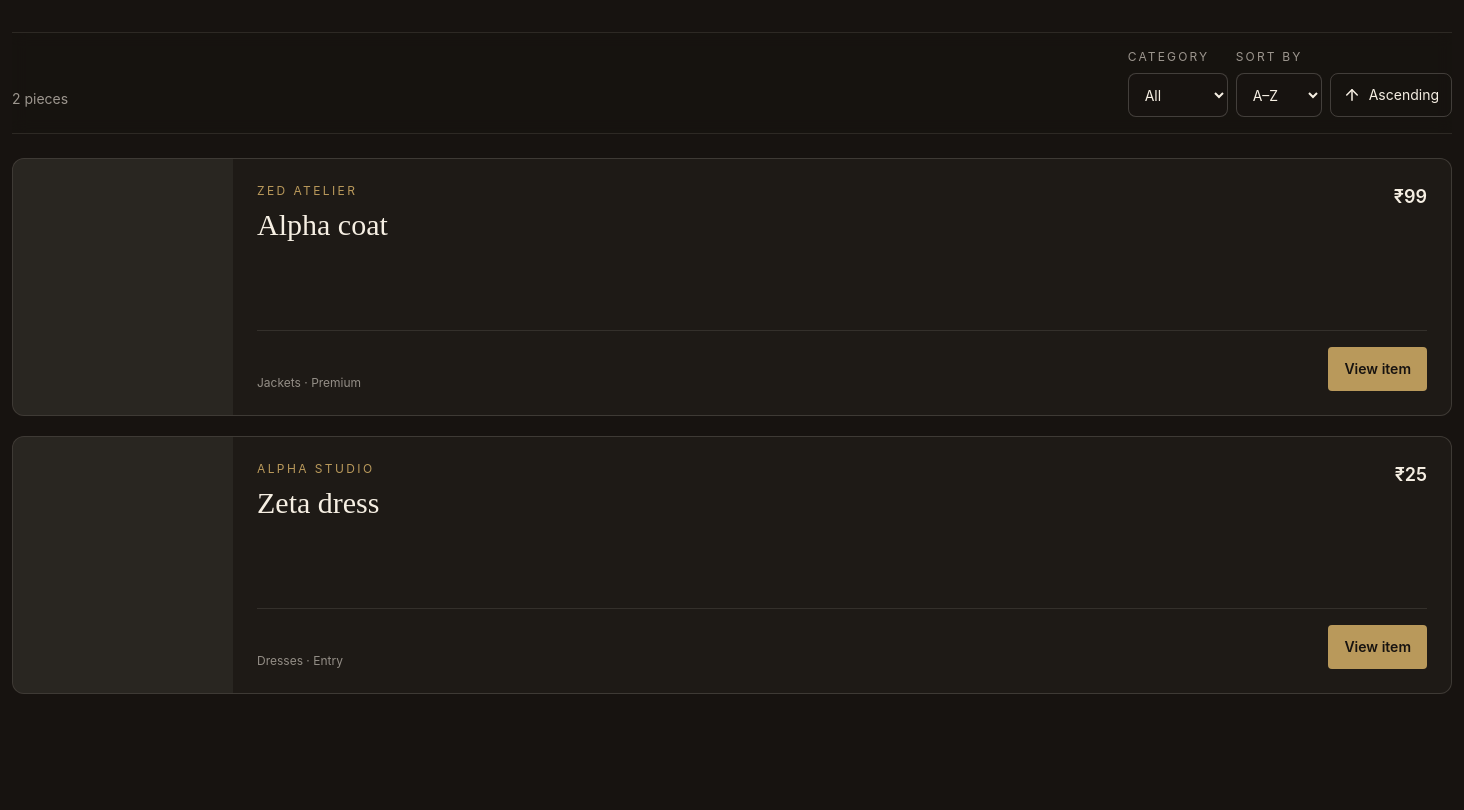
it: signed-in product catalogue › sorts alphabetically by default and supports price direction toggling
Select "Price" in the dropdown named "Sort products by" at (1279, 95), box x1=1236 y1=73 x2=1322 y2=117
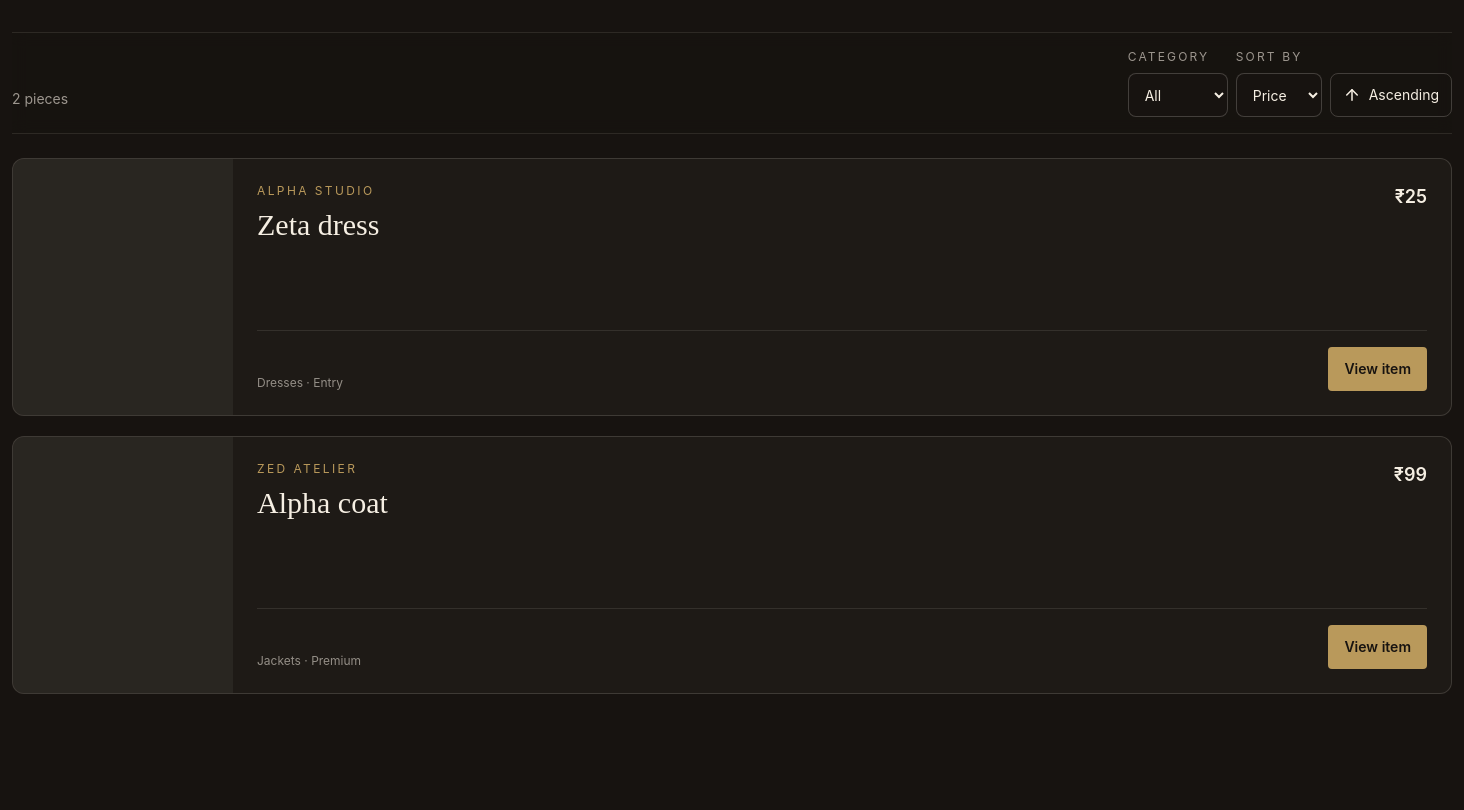
Click the button "Ascending" at (1391, 95), box x1=1330 y1=73 x2=1452 y2=117
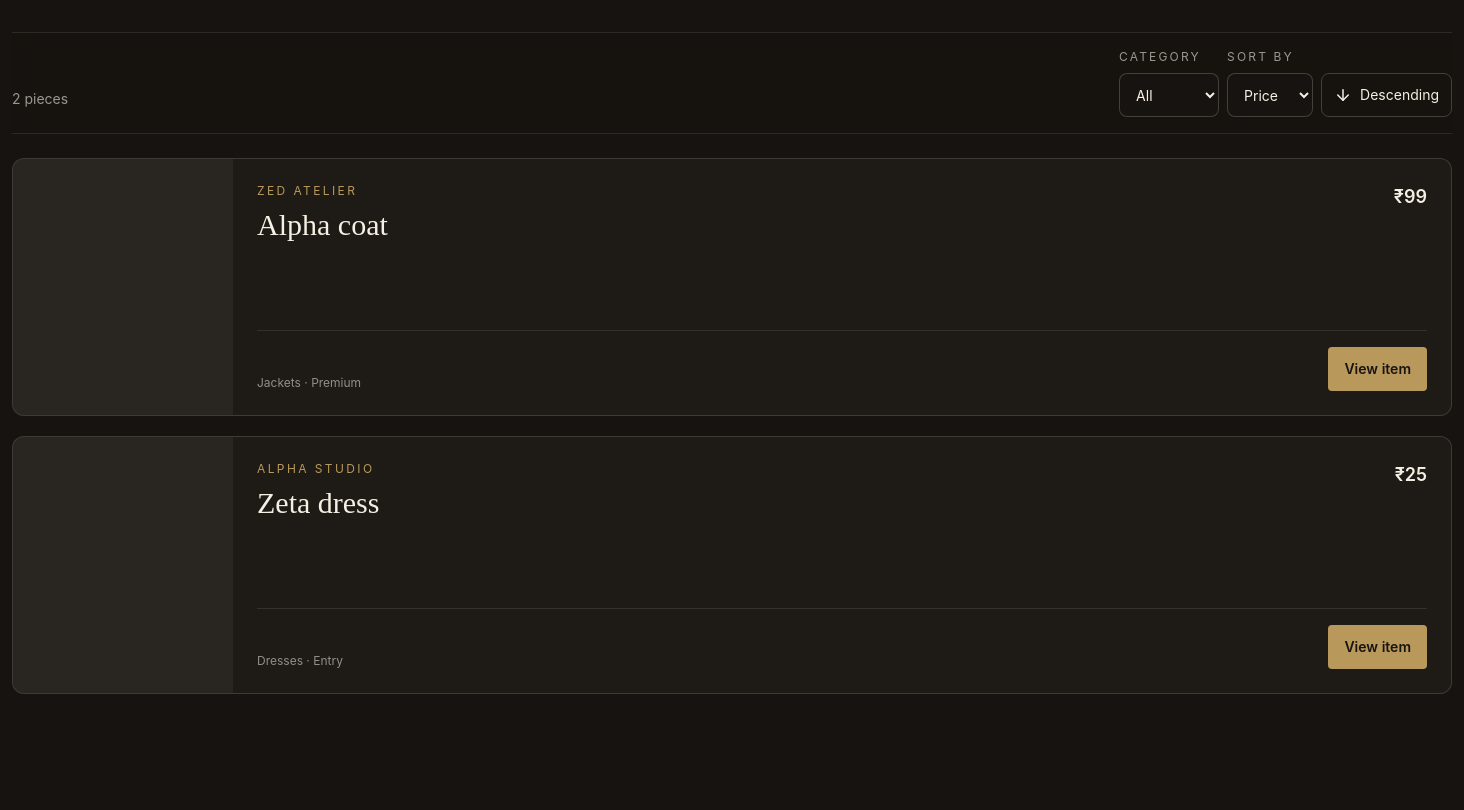
Expected: the button "Descending" is shown, x1=1321 y1=73 x2=1452 y2=117
